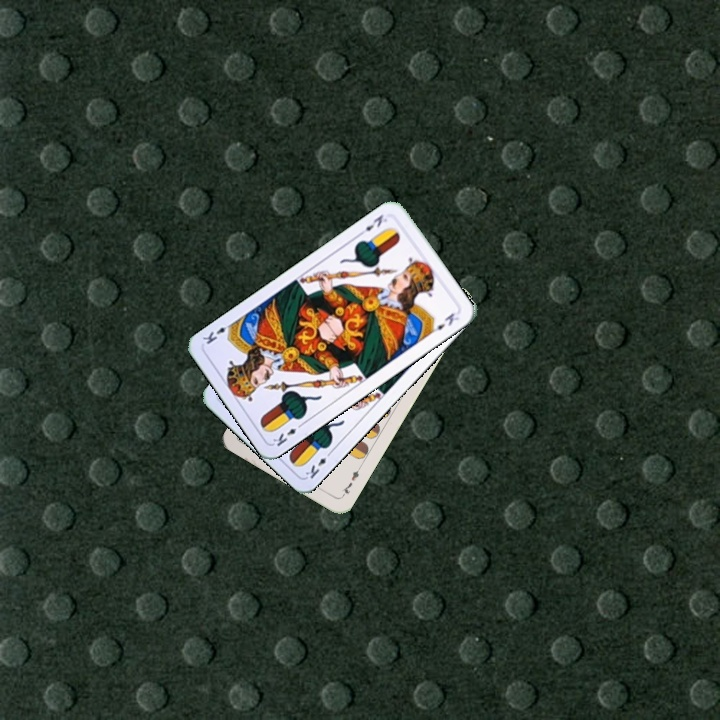E7: (338, 463, 364, 500)
EK: (301, 447, 335, 482), (269, 419, 306, 449), (355, 210, 389, 238)
